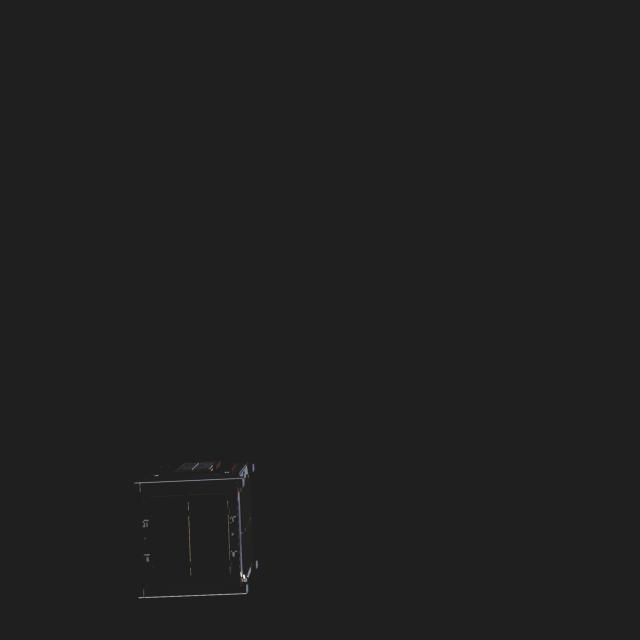medium_debris: (127, 456, 270, 605)
